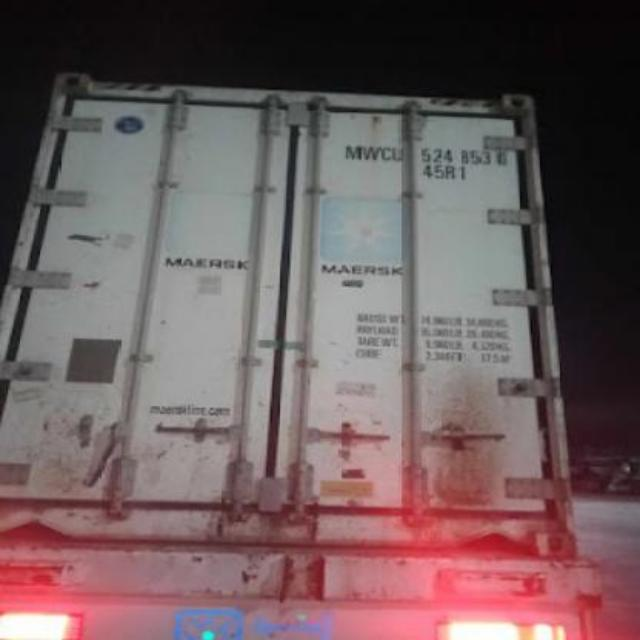0: (494, 147, 508, 171)
2: (432, 144, 444, 166)
3: (480, 148, 492, 170)
4: (442, 144, 456, 164)
5: (420, 142, 432, 164), (472, 146, 482, 170)
8: (458, 147, 470, 165)
C: (378, 143, 394, 161)
M: (341, 140, 362, 164)
U: (392, 142, 406, 168)
W: (360, 140, 380, 162)
